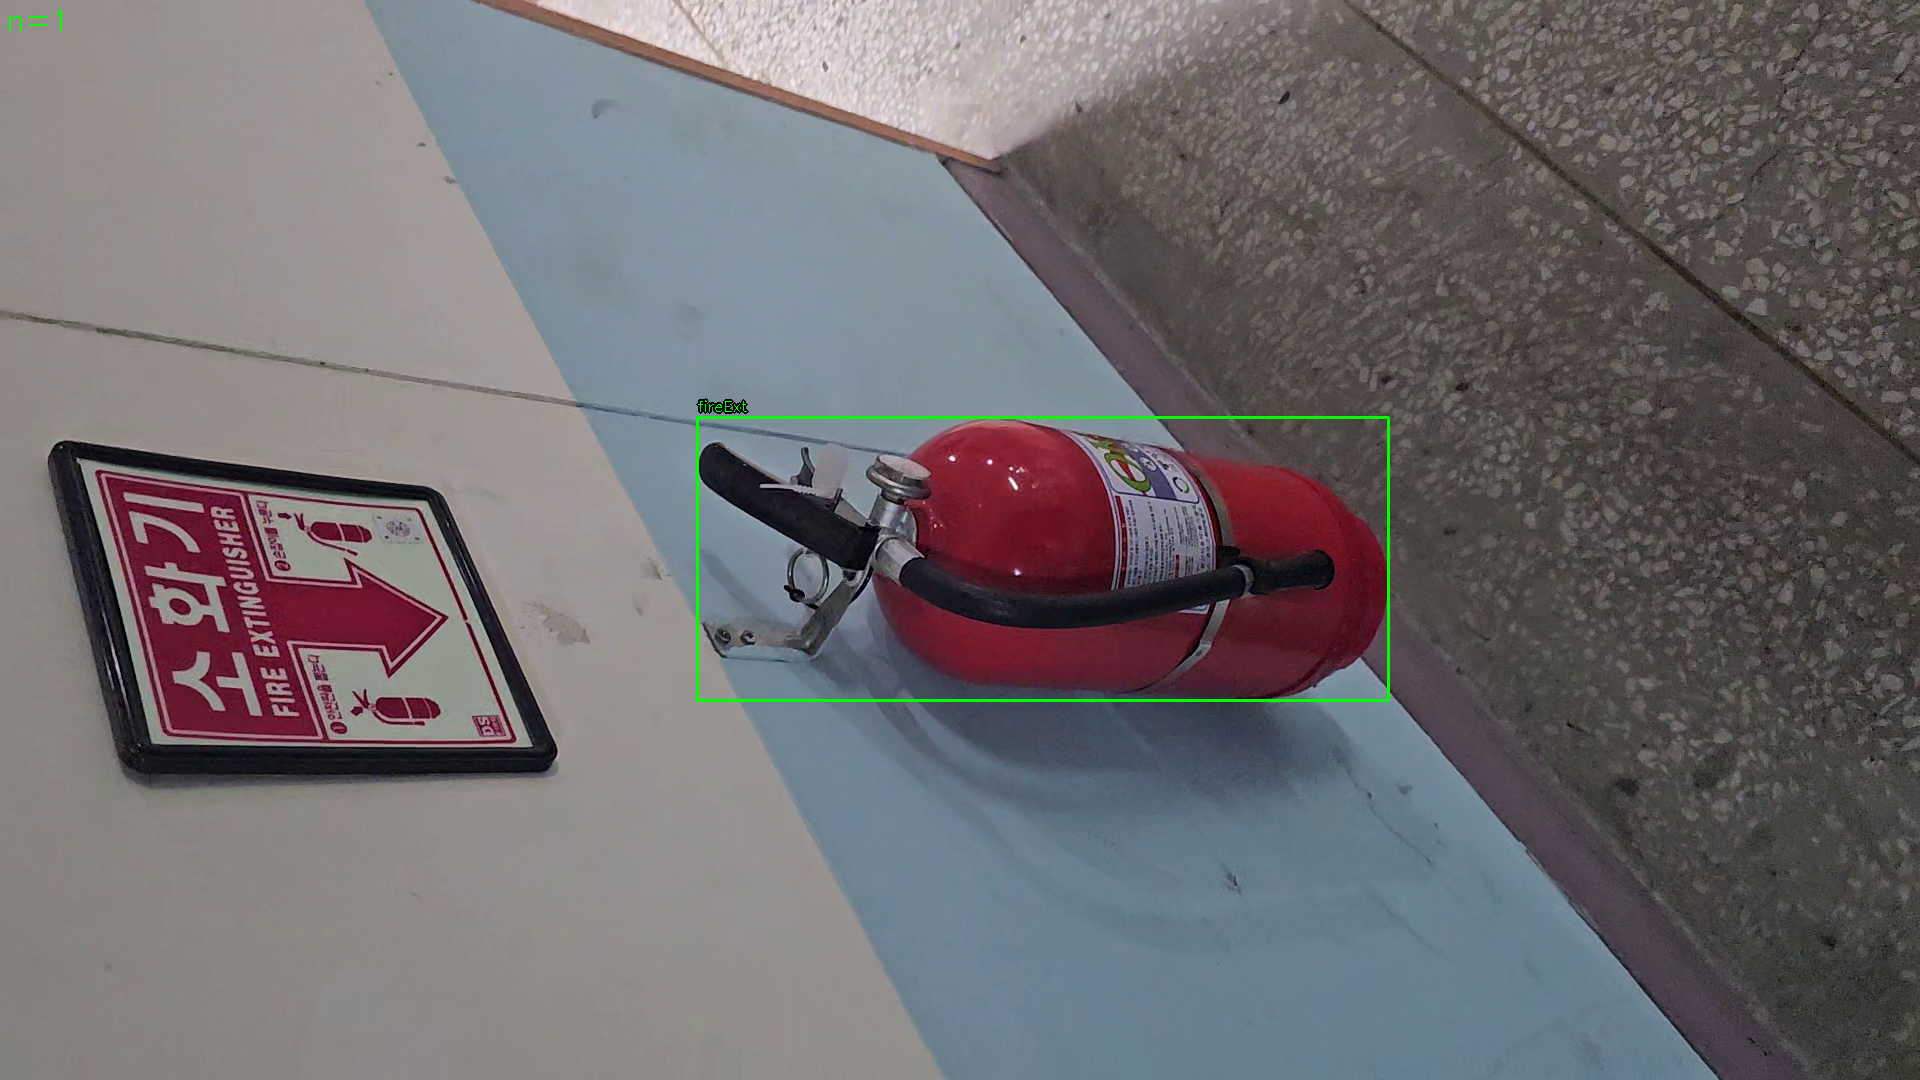lane: (698, 417, 1389, 702)
